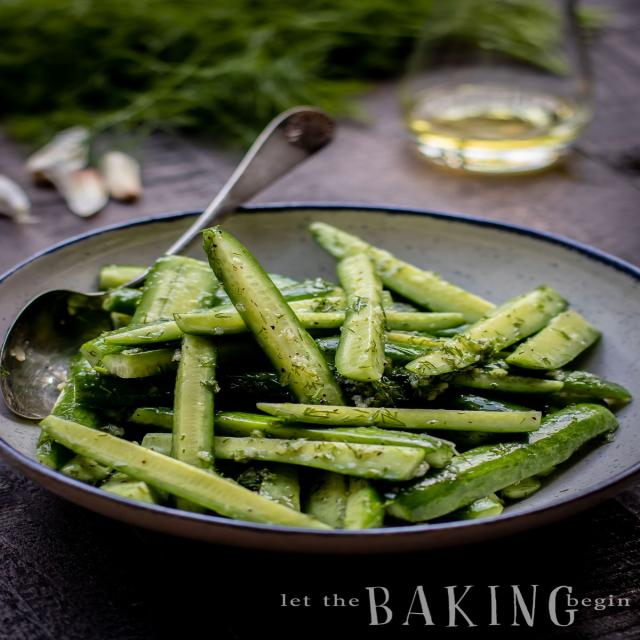Pickle: (41, 415, 332, 529), (386, 404, 619, 522), (202, 228, 345, 405), (407, 285, 568, 375), (216, 412, 458, 468), (368, 246, 497, 322), (214, 437, 428, 481), (257, 402, 542, 432), (336, 254, 386, 381), (171, 335, 218, 469), (131, 255, 218, 324), (506, 310, 602, 369), (548, 370, 632, 404), (452, 369, 564, 394), (309, 221, 371, 259), (101, 348, 176, 379), (343, 476, 386, 528), (174, 310, 248, 335), (386, 332, 444, 348)
